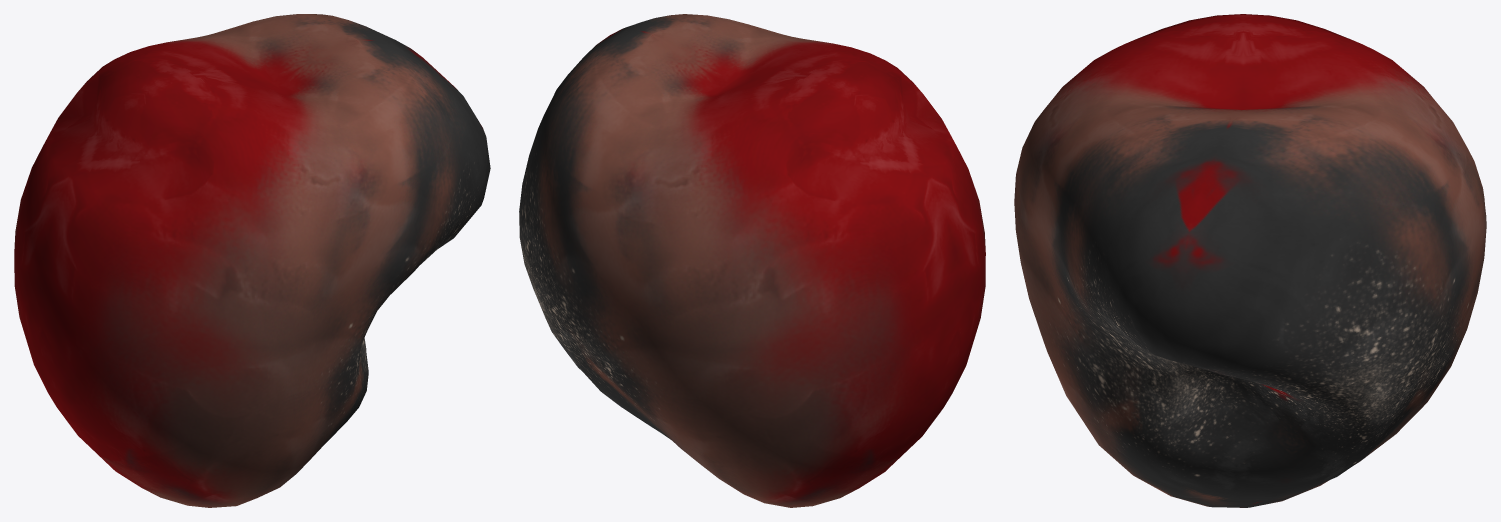
The model's file is ceriseP2.FBX.
The picture shows the model from 3 angles, left to right: view 1: azimuth 30°, elevation 25°; view 2: azimuth 150°, elevation 25°; view 3: azimuth 270°, elevation 25°; orthographic projection. The views are drawn at different scales.
Visible parts, largest first — view 1: Cerise_Negatif_02; view 2: Cerise_Negatif_02; view 3: Cerise_Negatif_02.
Boxes of the visible parts, x1=… form: Cerise_Negatif_02: x1=14, y1=14, x2=490, y2=507; Cerise_Negatif_02: x1=519, y1=14, x2=985, y2=507; Cerise_Negatif_02: x1=1014, y1=14, x2=1486, y2=507.
Size of the model in its own units: 0.9228 by 0.8893 by 0.8184.
